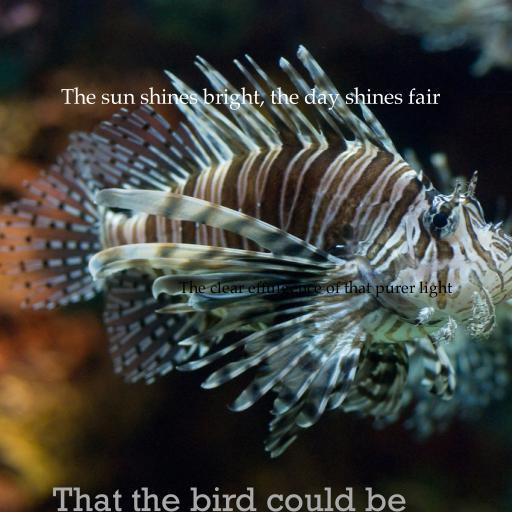Palatino: (60, 87, 440, 110), (178, 280, 452, 298)
Rockwell: (51, 487, 407, 512)
